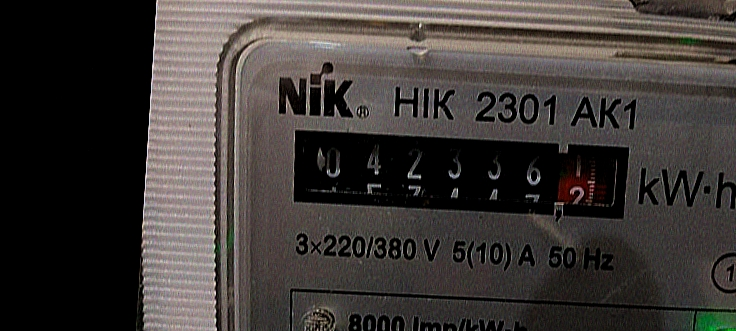0: (325, 143, 347, 180)
1: (573, 150, 588, 180)
2: (406, 145, 428, 182), (568, 184, 589, 206)
3: (447, 143, 468, 182), (485, 146, 507, 183)
4: (366, 139, 387, 177)
6: (524, 151, 548, 187)
screen: (285, 116, 642, 231)
